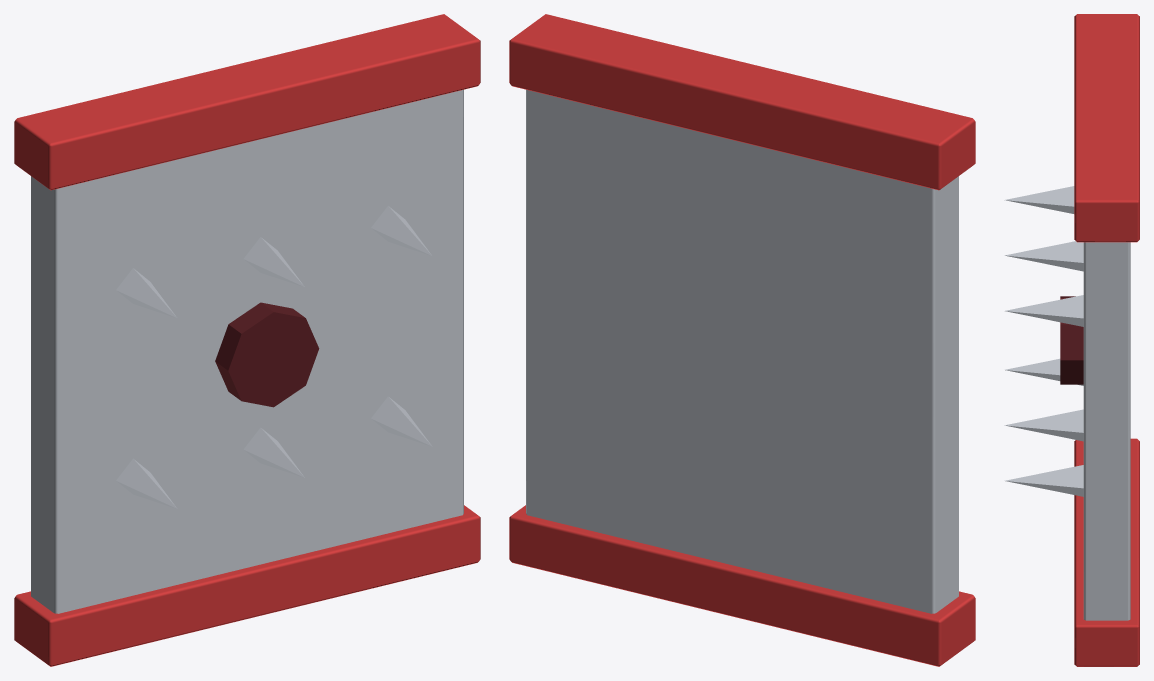
Rendered from spike_guard.glb.
3 views of the same model, side by side, from view 1: azimuth 30°, elevation 25°; view 2: azimuth 150°, elevation 25°; view 3: azimuth 270°, elevation 25° (orthographic). The views are drawn at different scales.
Parts seen in each view (by area): view 1: shield, rim_top, rim_bottom, boss, spike_0_0, spike_2_0, spike_0_1, spike_1_0, spike_2_1, spike_1_1; view 2: shield, rim_top, rim_bottom; view 3: shield, rim_top, rim_bottom, boss, spike_2_0, spike_1_0, spike_2_1, spike_1_1, spike_0_1, spike_0_0.
Boxes of the visible parts, <box> form: shield: <box>31,89,463,613</box>; rim_top: <box>14,14,480,190</box>; rim_bottom: <box>14,505,480,666</box>; boss: <box>215,302,319,407</box>; spike_0_0: <box>116,458,177,508</box>; spike_2_0: <box>371,396,432,446</box>; spike_0_1: <box>116,268,177,318</box>; spike_1_0: <box>243,427,304,477</box>; spike_2_1: <box>371,206,432,256</box>; spike_1_1: <box>244,237,304,287</box>; shield: <box>526,89,958,613</box>; rim_top: <box>509,14,975,190</box>; rim_bottom: <box>509,505,975,666</box>; shield: <box>1083,242,1130,620</box>; rim_top: <box>1074,14,1139,242</box>; rim_bottom: <box>1074,438,1139,666</box>; boss: <box>1060,296,1083,384</box>; spike_2_0: <box>1004,465,1083,496</box>; spike_1_0: <box>1004,409,1083,441</box>; spike_2_1: <box>1005,295,1083,326</box>; spike_1_1: <box>1004,241,1083,271</box>; spike_0_1: <box>1004,186,1074,213</box>; spike_0_0: <box>1005,358,1083,385</box>.
Size of the model in its own units: 0.95 by 1.1 by 0.29.
